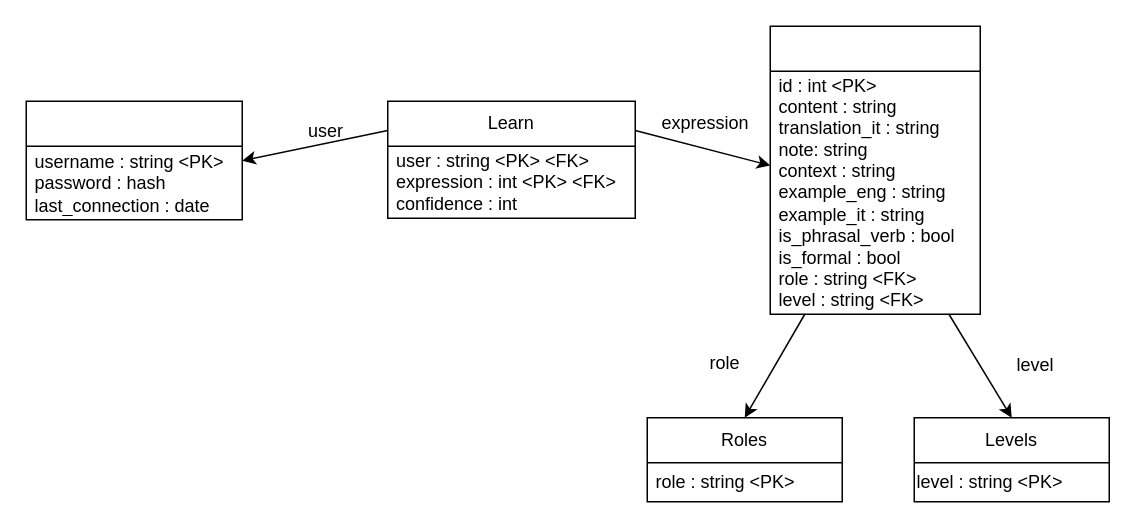
The diagram is 1136 pixels wide and 528 high, and some of its shapes have lost their labels. The shapes that lost their labels are listed below. From the top down, each one's box as (x1, y1, x2, y2) in pixels, then its label:
(25, 100, 242, 220): Users
(769, 25, 980, 314): Expressions
